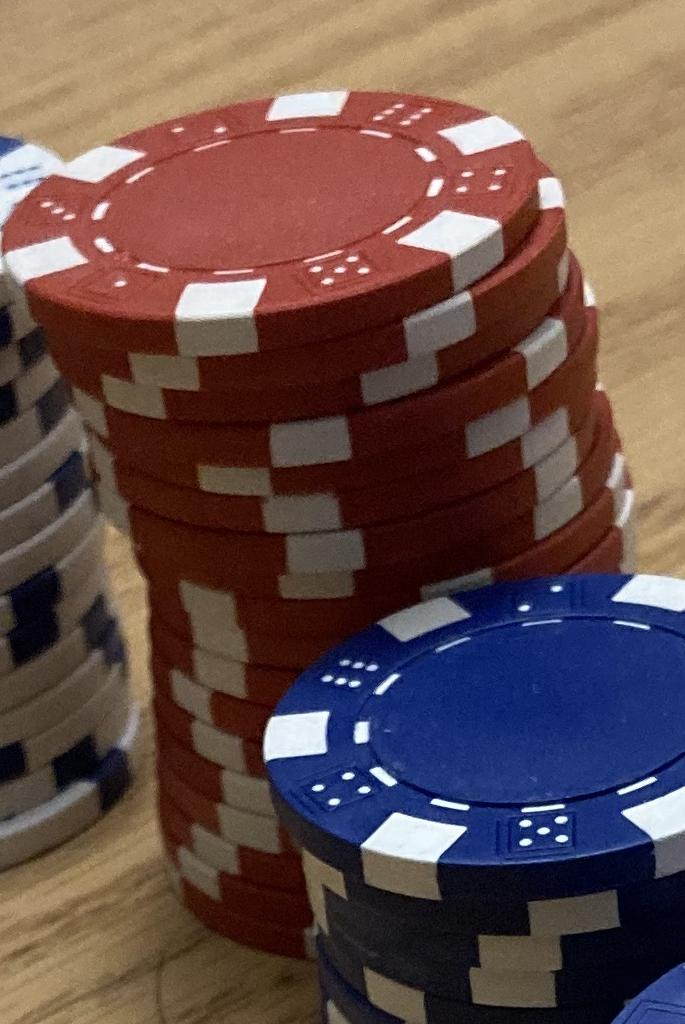Chip: (1, 1, 685, 1024)
